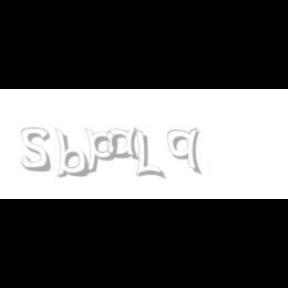L: (134, 128, 162, 180)
S: (21, 128, 52, 172)
a: (106, 128, 144, 160)
b: (54, 128, 92, 178)
p: (84, 128, 122, 174)
q: (167, 128, 203, 176)
